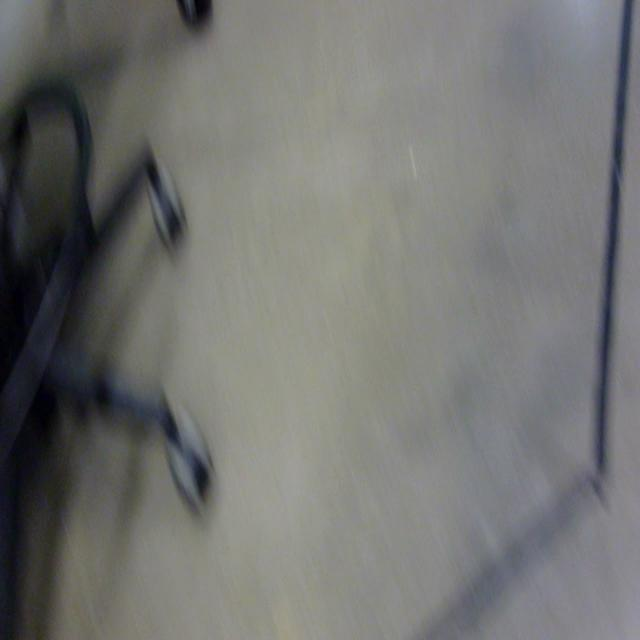tape: (386, 0, 640, 640)
